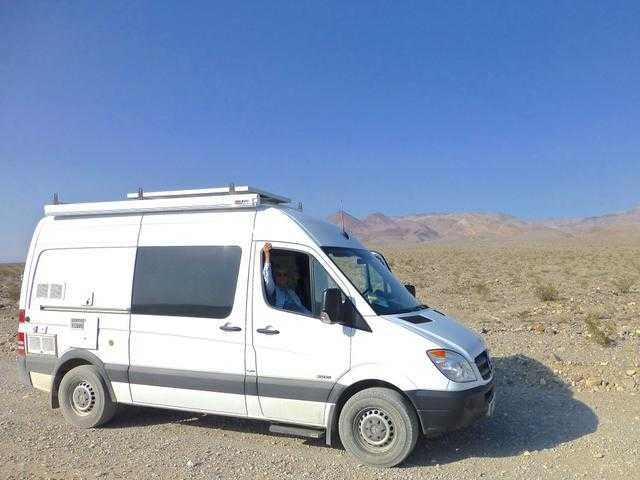van: (14, 183, 495, 468)
